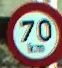Speed limit: (7, 1, 59, 64)
